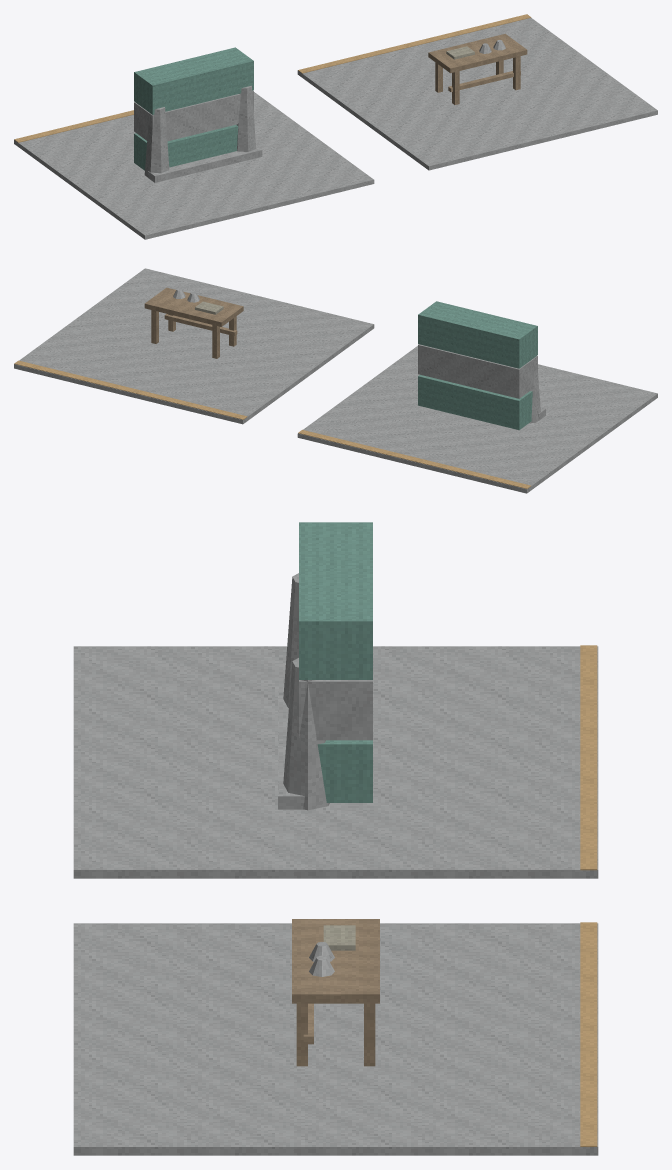
The model's file is level_blockout_kit_wld_03_p04.glb.
The picture shows the model from 3 angles, top to bottom: view 1: azimuth 30°, elevation 25°; view 2: azimuth 150°, elevation 25°; view 3: azimuth 270°, elevation 25°; orthographic projection. The views are drawn at different scales.
Visible parts, largest first — view 1: level_blockout_kit_wld_03_p04; view 2: level_blockout_kit_wld_03_p04; view 3: level_blockout_kit_wld_03_p04.
Boxes of the visible parts, bbox=[...] form: level_blockout_kit_wld_03_p04: bbox=[14, 14, 657, 239]; level_blockout_kit_wld_03_p04: bbox=[14, 268, 657, 493]; level_blockout_kit_wld_03_p04: bbox=[73, 522, 598, 1155].
Size of the model in its own units: 12.65 by 2.29 by 5.6.
5 materials, 5 textured.
